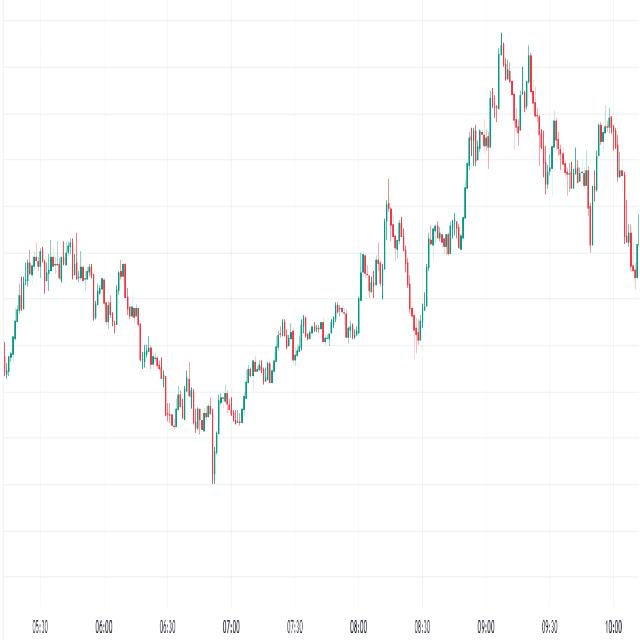Double-Top: (493, 20, 539, 158)
Inverse-Head-Shoulders: (388, 188, 453, 352)
